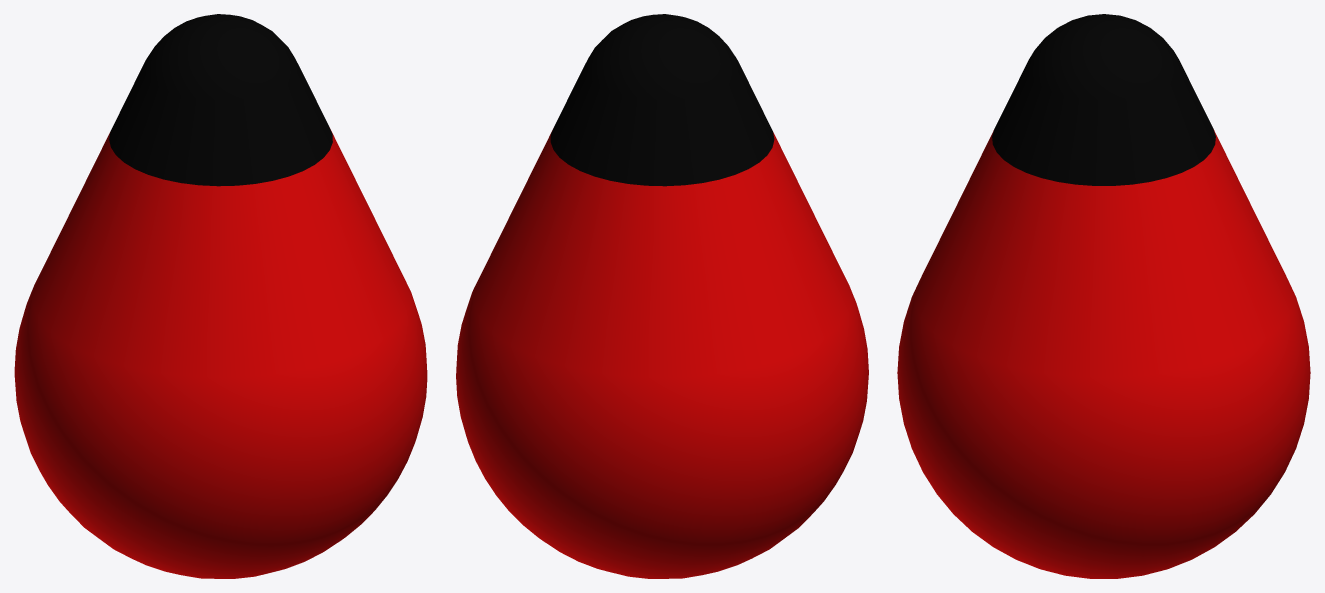
Rendered from A-0-Green.dae.
3 renders of one model, left to right at view 1: azimuth 30°, elevation 25°; view 2: azimuth 150°, elevation 25°; view 3: azimuth 270°, elevation 25°, orthographic.
Visible parts, largest first — view 1: A-0-Red; view 2: A-0-Red; view 3: A-0-Red.
Boxes of the visible parts, x1,y1,x2,y2 form: A-0-Red: (14,14,427,578); A-0-Red: (456,14,868,578); A-0-Red: (897,14,1310,578).
Bounding box in the file's own units: 7.98 × 8 × 11.48.
